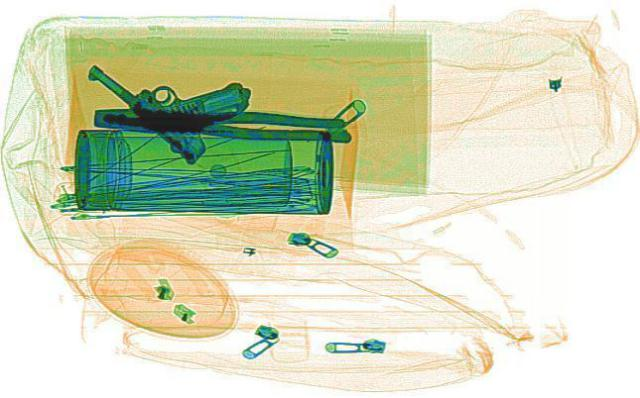Gun: (74, 30, 290, 165)
Pliers: (90, 100, 354, 142)
